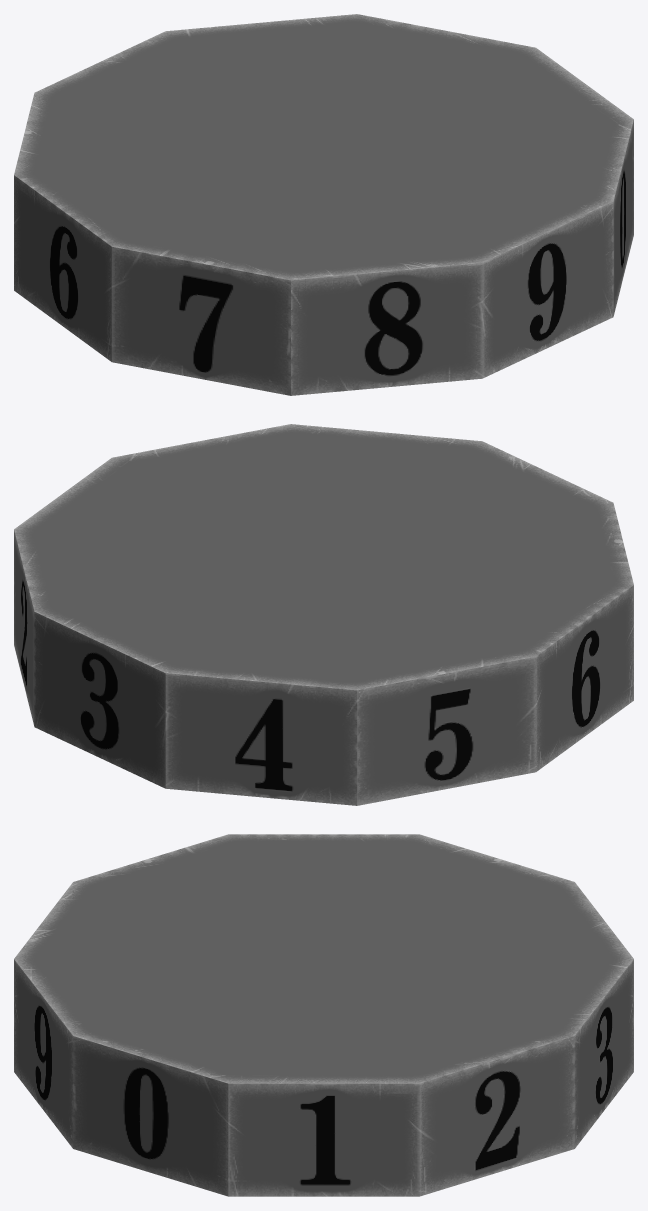
The model's file is safe_rolling.fbx.
3 renders of one model, top to bottom at view 1: azimuth 30°, elevation 25°; view 2: azimuth 150°, elevation 25°; view 3: azimuth 270°, elevation 25°, orthographic. The views are drawn at different scales.
Parts seen in each view (by area): view 1: pCylinder3; view 2: pCylinder3; view 3: pCylinder3.
Part boxes in pixels (left/top/right/bottom): pCylinder3: left=14, top=14, right=633, bottom=395; pCylinder3: left=14, top=424, right=633, bottom=805; pCylinder3: left=14, top=834, right=633, bottom=1196.
Bounding box in the file's own units: 0.5196 × 0.1099 × 0.5464.
